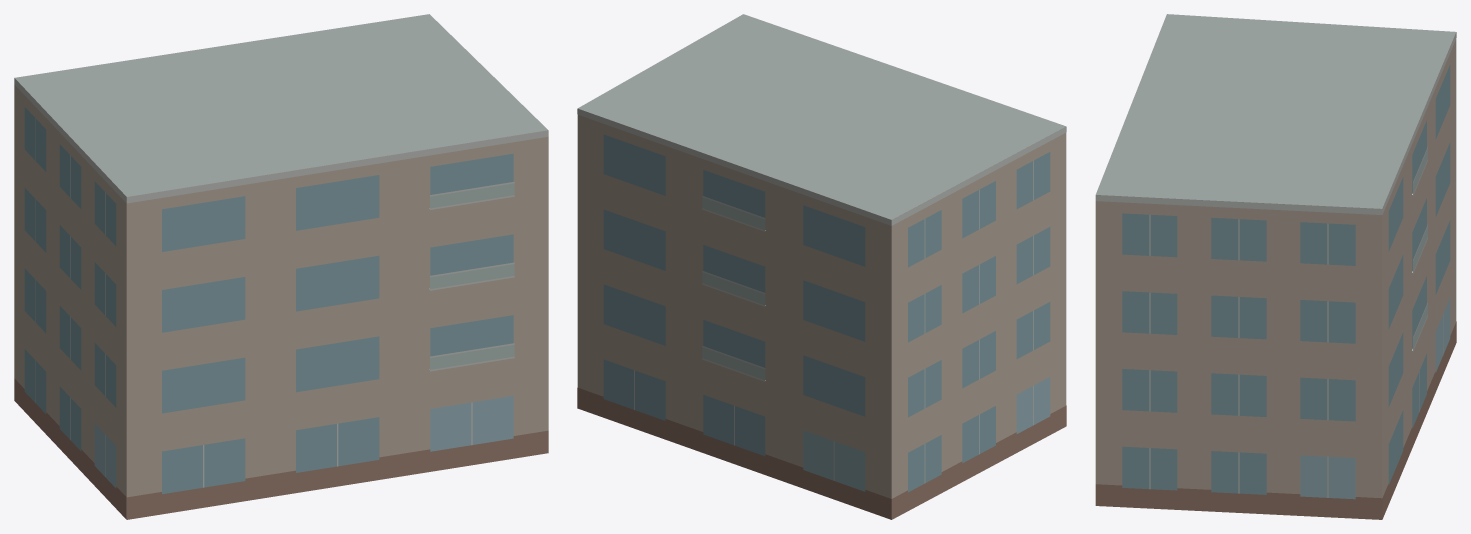
File: survey-upis-32657831.glb
The picture shows the model from 3 angles, left to right: view 1: azimuth 30°, elevation 25°; view 2: azimuth 150°, elevation 25°; view 3: azimuth 270°, elevation 25°; orthographic projection. The views are drawn at different scales.
Visible parts, largest first — view 1: survey-upis-32657831.tmp; view 2: survey-upis-32657831.tmp; view 3: survey-upis-32657831.tmp.
Boxes of the visible parts, x1,y1,x2,y2 form: survey-upis-32657831.tmp: [14, 14, 548, 519]; survey-upis-32657831.tmp: [577, 14, 1066, 519]; survey-upis-32657831.tmp: [1095, 14, 1456, 519].
Size of the model in its own units: 16.4 by 12.2 by 12.84.
